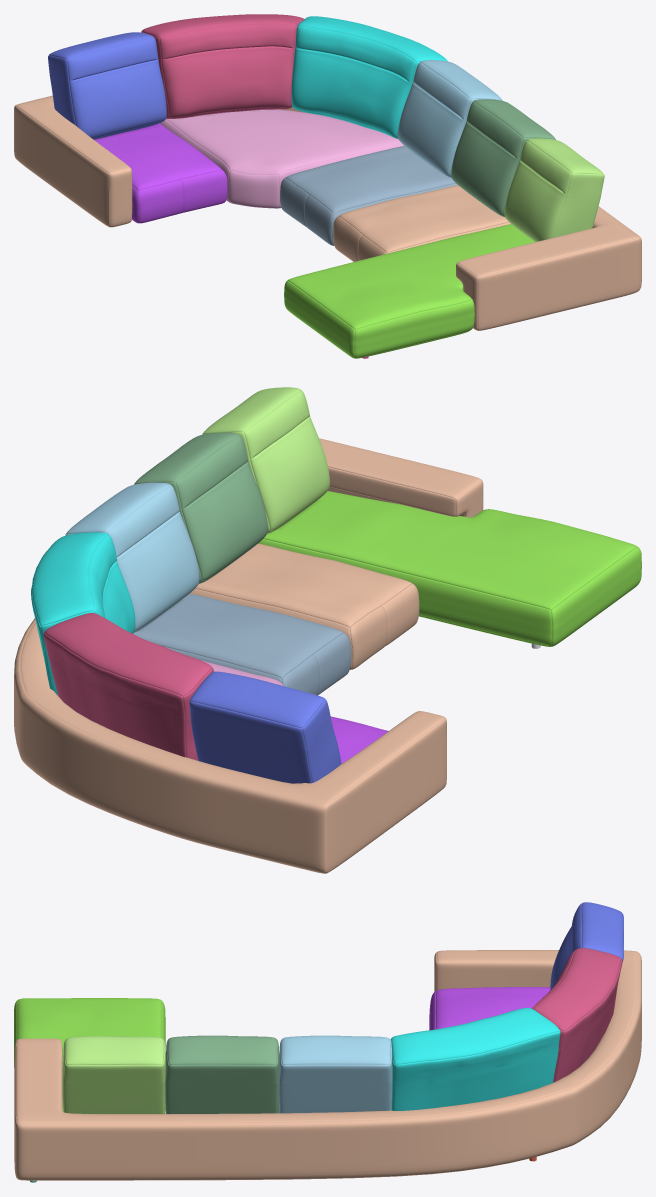
3 views of the same model, one above another, from view 1: azimuth 30°, elevation 25°; view 2: azimuth 150°, elevation 25°; view 3: azimuth 270°, elevation 25° (orthographic). The views are drawn at different scales.
Visible parts, largest first — view 1: split_parent_13, Object_5.010, Object_4.012, Object_4.029, Object_4.023, Object_4.020, Object_5.008, Object_4.025, Object_5.087, Object_5.085, Object_4.027; view 2: split_parent_13, Object_5.010, Object_4.012, Object_4.020, Object_5.008, Object_4.027, Object_5.085, Object_4.025, Object_4.023, Object_5.087; view 3: split_parent_13, Object_4.023, Object_4.027, Object_5.085, Object_4.025, Object_4.012, Object_5.010, Object_5.087, Object_4.020.
Boxes of the visible parts, x1,y1,x2,y2 form: split_parent_13: (14, 95, 641, 330); Object_5.010: (284, 224, 534, 358); Object_4.012: (141, 14, 304, 118); Object_4.029: (160, 109, 404, 208); Object_4.023: (291, 16, 447, 138); Object_4.020: (48, 32, 166, 139); Object_5.008: (280, 146, 457, 245); Object_4.025: (504, 138, 604, 241); Object_5.087: (94, 123, 227, 223); Object_5.085: (397, 60, 502, 178); Object_4.027: (451, 99, 555, 217); split_parent_13: (14, 438, 483, 873); Object_5.010: (258, 491, 641, 646); Object_4.012: (43, 613, 213, 760); Object_4.020: (189, 671, 341, 783); Object_5.008: (133, 593, 351, 695); Object_4.027: (134, 432, 267, 583); Object_5.085: (65, 482, 199, 632); Object_4.025: (202, 387, 329, 533); Object_4.023: (31, 532, 135, 695); Object_5.087: (330, 716, 388, 763); split_parent_13: (14, 950, 641, 1180); Object_4.023: (390, 1008, 560, 1110); Object_4.027: (165, 1035, 279, 1113); Object_5.085: (278, 1035, 392, 1113); Object_4.025: (62, 1036, 165, 1113); Object_4.012: (532, 948, 622, 1082); Object_5.010: (14, 998, 165, 1111); Object_5.087: (429, 987, 550, 1030); Object_4.020: (550, 902, 623, 989).
Bounding box in the file's own units: 0.6613 × 0.23 × 1.
